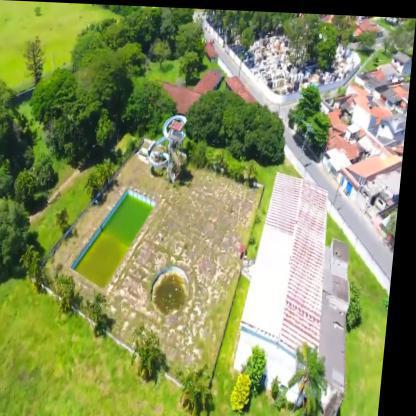agua: (103, 205, 157, 262), (155, 264, 198, 313)
